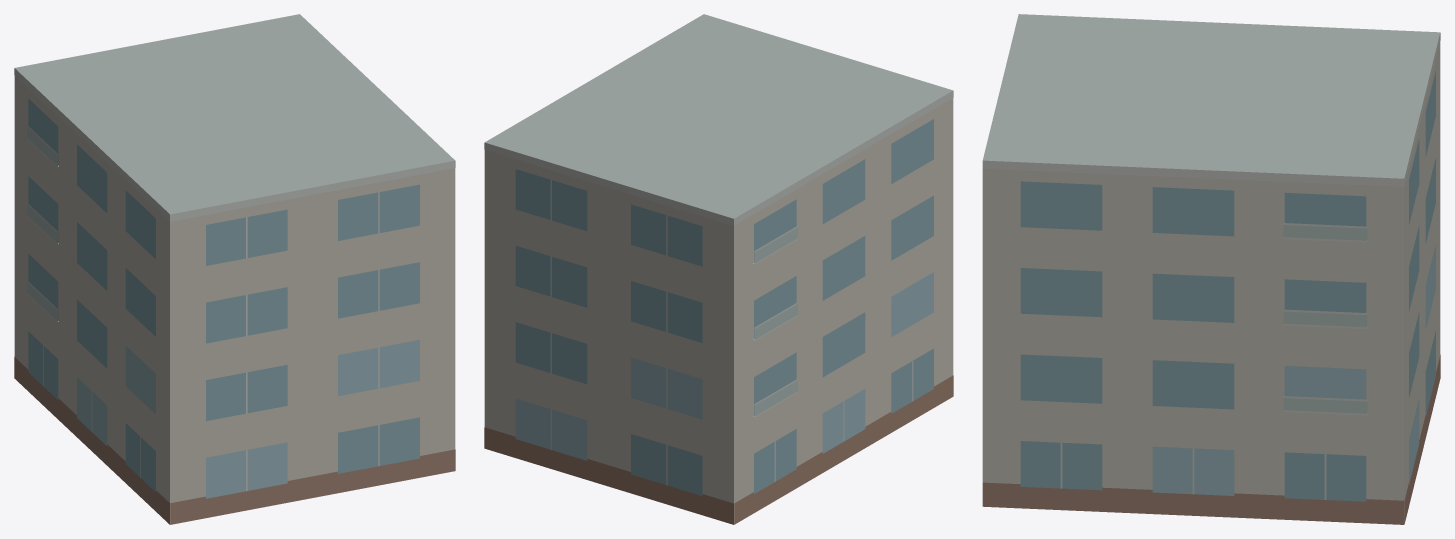
The model's file is survey-upis-32976146.glb.
3 views of the same model, side by side, from view 1: azimuth 30°, elevation 25°; view 2: azimuth 150°, elevation 25°; view 3: azimuth 270°, elevation 25° (orthographic). The views are drawn at different scales.
Visible parts, largest first — view 1: survey-upis-32976146.tmp; view 2: survey-upis-32976146.tmp; view 3: survey-upis-32976146.tmp.
Boxes of the visible parts, left/top/right/bottom form: survey-upis-32976146.tmp: left=14, top=14, right=455, bottom=524; survey-upis-32976146.tmp: left=484, top=14, right=953, bottom=524; survey-upis-32976146.tmp: left=982, top=14, right=1440, bottom=524.
Size of the model in its own units: 10.62 by 10.4 by 12.47.
